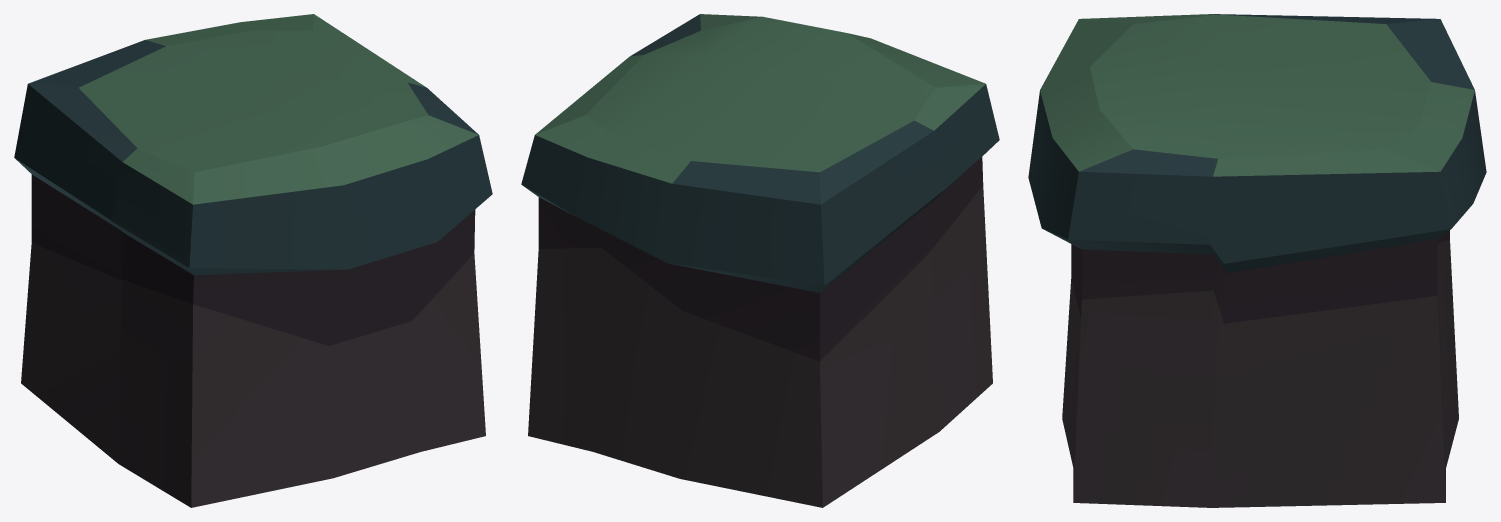
File: скала2.fbx
3 views of the same model, side by side, from view 1: azimuth 30°, elevation 25°; view 2: azimuth 150°, elevation 25°; view 3: azimuth 270°, elevation 25° (orthographic). The views are drawn at different scales.
Visible parts, largest first — view 1: pCube4; view 2: pCube4; view 3: pCube4.
Part boxes in pixels (x1,y1,x2,y2): pCube4: (14, 14, 492, 507); pCube4: (521, 14, 999, 507); pCube4: (1028, 14, 1486, 507).
Size of the model in its own units: 1.72 by 1.64 by 1.94.
